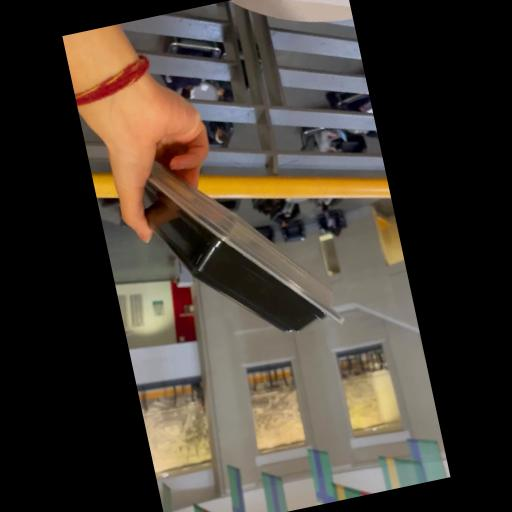rigid_plastic_container: (132, 133, 341, 357)
